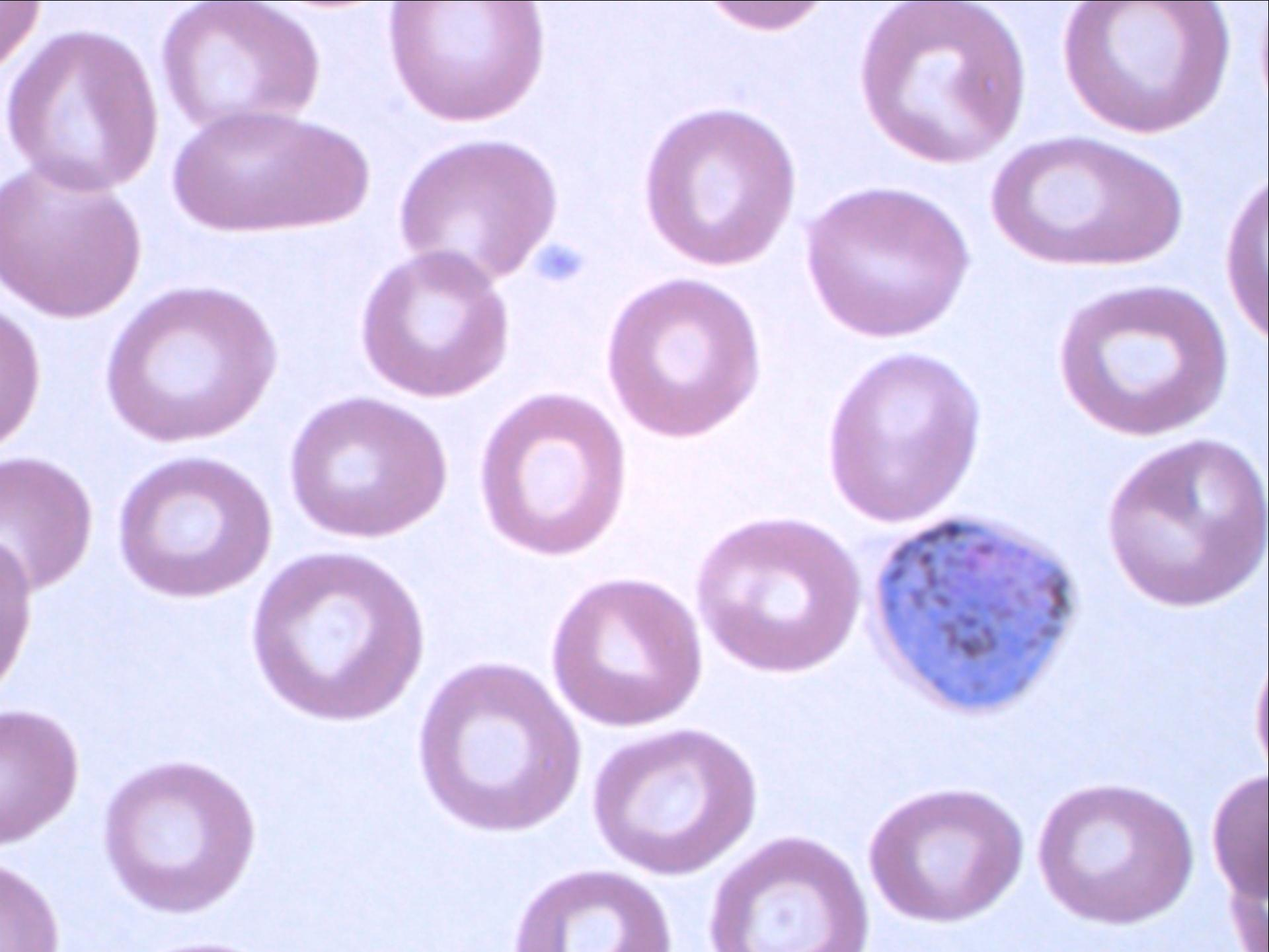Infected: (870, 518, 1077, 715)
Uninfected: (251, 553, 417, 721), (420, 667, 580, 830), (863, 4, 1022, 160), (1106, 444, 1262, 603), (110, 290, 272, 439), (698, 522, 858, 671), (829, 359, 976, 521), (1063, 287, 1225, 431), (398, 139, 552, 289), (808, 190, 967, 335), (176, 112, 365, 233), (992, 139, 1173, 264), (364, 243, 510, 395), (609, 283, 754, 434), (11, 34, 155, 186), (594, 731, 747, 874), (482, 396, 623, 551), (295, 395, 442, 541), (647, 113, 791, 260), (106, 765, 249, 909), (553, 581, 697, 723), (1067, 2, 1224, 131), (3, 172, 141, 317), (121, 460, 268, 595), (1038, 787, 1186, 921), (868, 794, 1021, 922), (165, 3, 318, 122), (392, 3, 541, 118), (712, 840, 865, 951)
